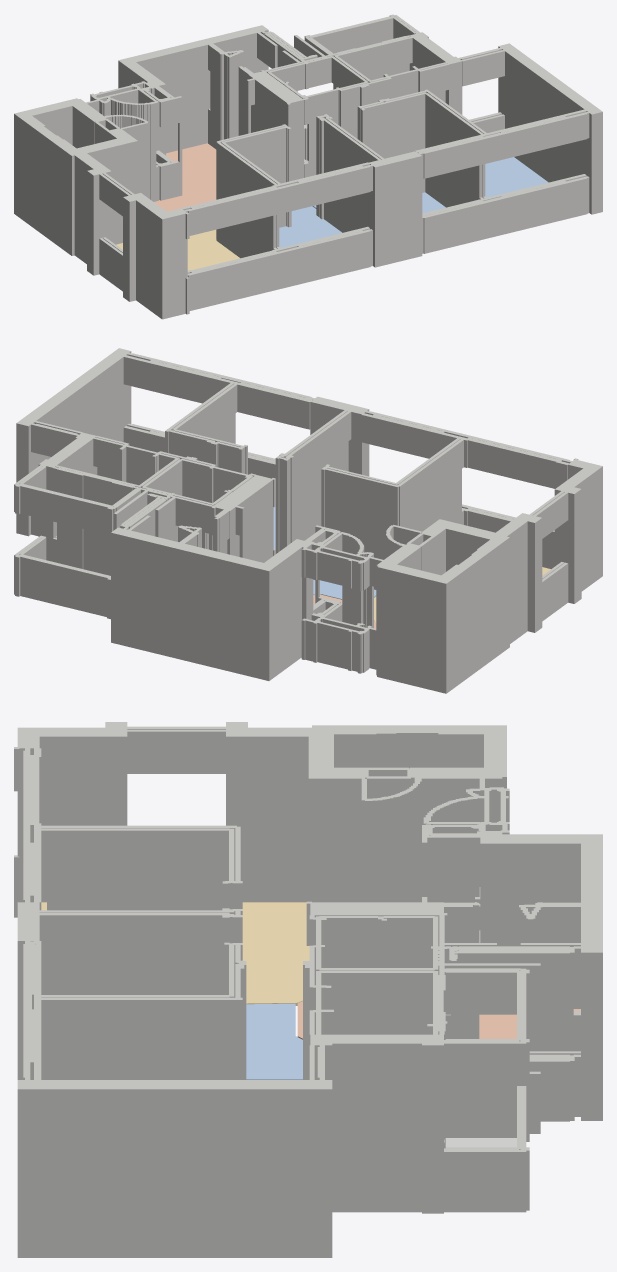
The picture shows the model from 3 angles, top to bottom: view 1: azimuth 30°, elevation 25°; view 2: azimuth 150°, elevation 25°; view 3: azimuth 270°, elevation 25°; orthographic projection. The views are drawn at different scales.
Visible parts, largest first — view 1: walls, room:kitchen:0, room:bedroom:9, room:bedroom:5, room:living:4; view 2: walls; view 3: walls, room:living:4, room:bedroom:5, room:kitchen:0, room:ledge:6.
Part boxes in pixels (x1,y1,x2,y2): walls: (14, 14, 602, 319); room:kitchen:0: (154, 143, 216, 211); room:bedroom:9: (485, 157, 548, 197); room:bedroom:5: (279, 206, 342, 247); room:living:4: (116, 229, 239, 270); walls: (14, 348, 602, 693); walls: (14, 722, 602, 1257); room:living:4: (41, 902, 309, 1005); room:bedroom:5: (246, 1003, 302, 1079); room:kitchen:0: (297, 1001, 580, 1039); room:ledge:6: (445, 1138, 516, 1147).
Size of the model in its own units: 13.09 by 2.8 by 8.87.
